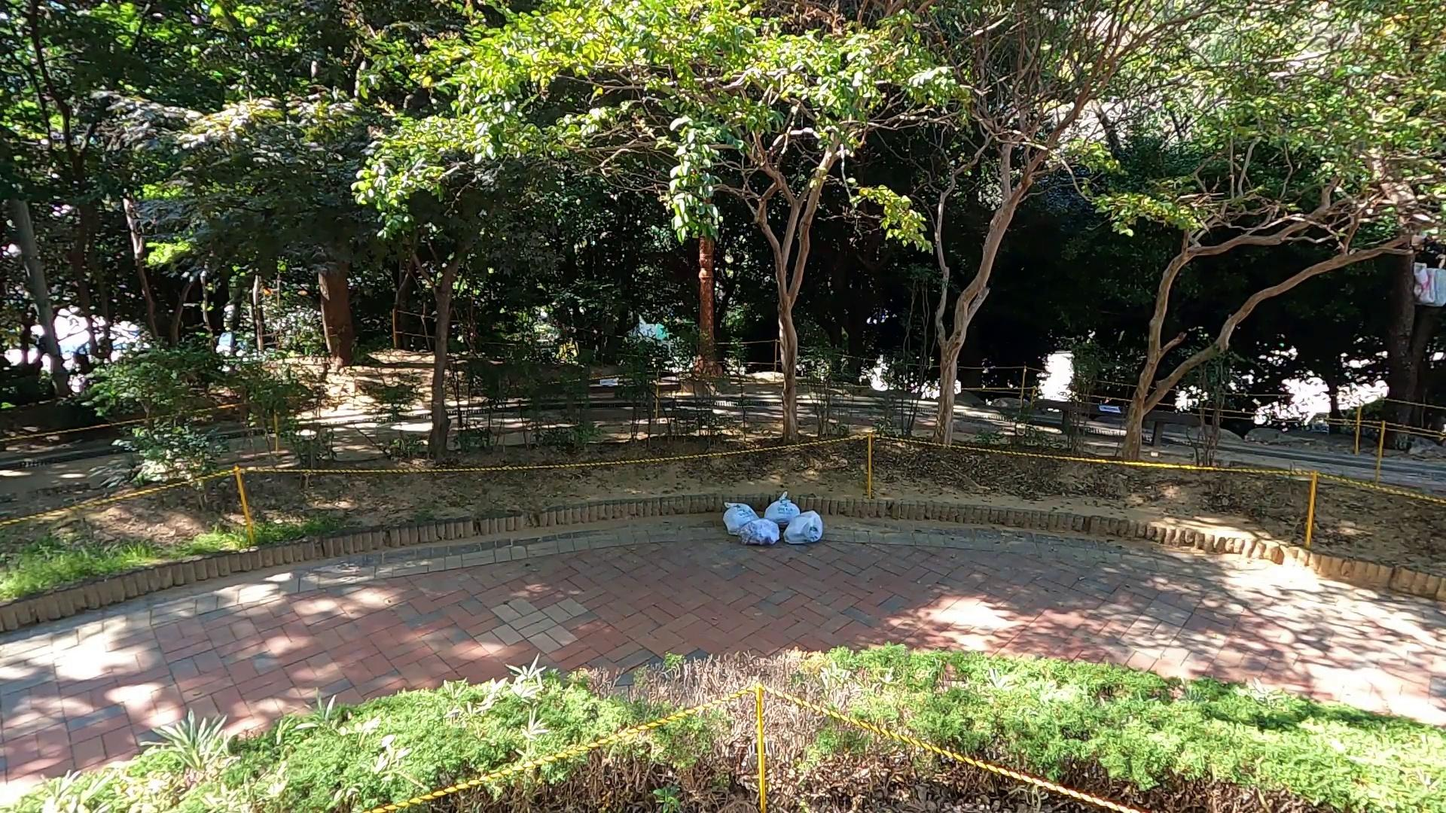trash: (782, 507, 827, 545), (719, 502, 765, 536), (736, 518, 783, 550), (763, 489, 801, 527)
